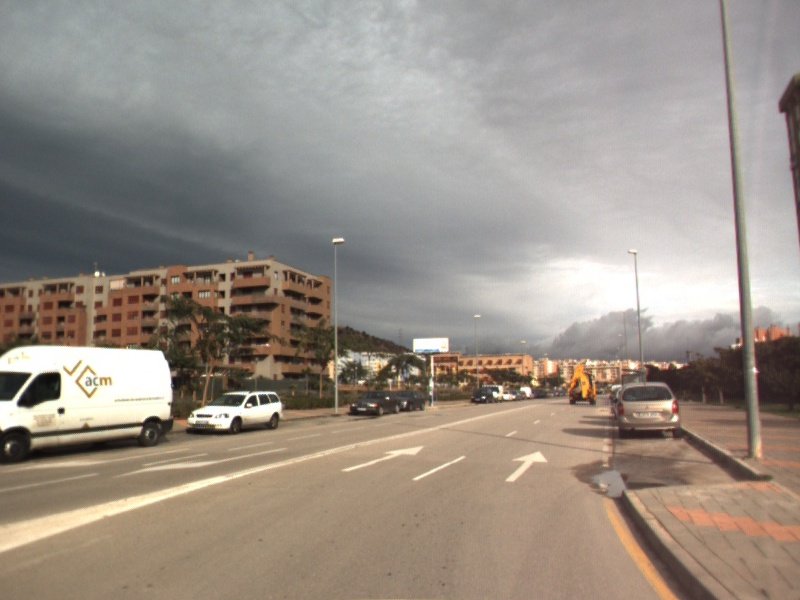STRAIGHT: (340, 444, 426, 473), (503, 448, 550, 483)
